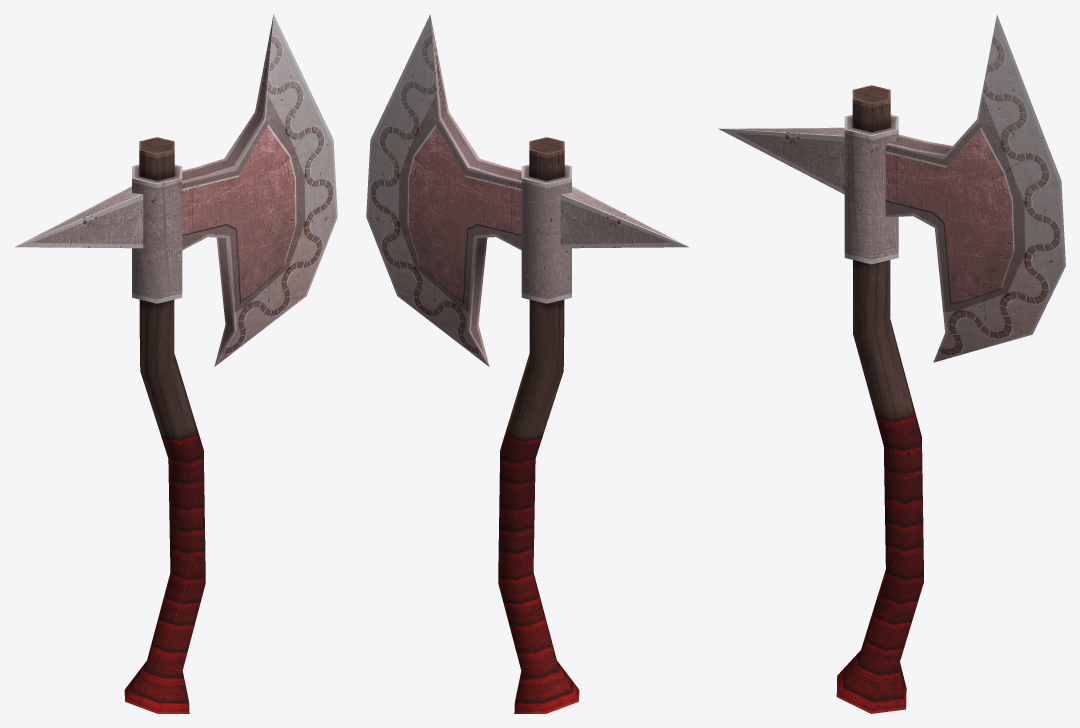
Rendered from axe07_regular.FBX.
The picture shows the model from 3 angles, left to right: view 1: azimuth 30°, elevation 25°; view 2: azimuth 150°, elevation 25°; view 3: azimuth 330°, elevation 25°; orthographic projection. The views are drawn at different scales.
Parts seen in each view (by area): view 1: axe07; view 2: axe07; view 3: axe07.
Part boxes in pixels (x1,y1,x2,y2): axe07: [14, 14, 337, 713]; axe07: [366, 14, 689, 713]; axe07: [718, 14, 1065, 713].
Bounding box in the file's own units: 0.7192 × 1.42 × 0.1267.
